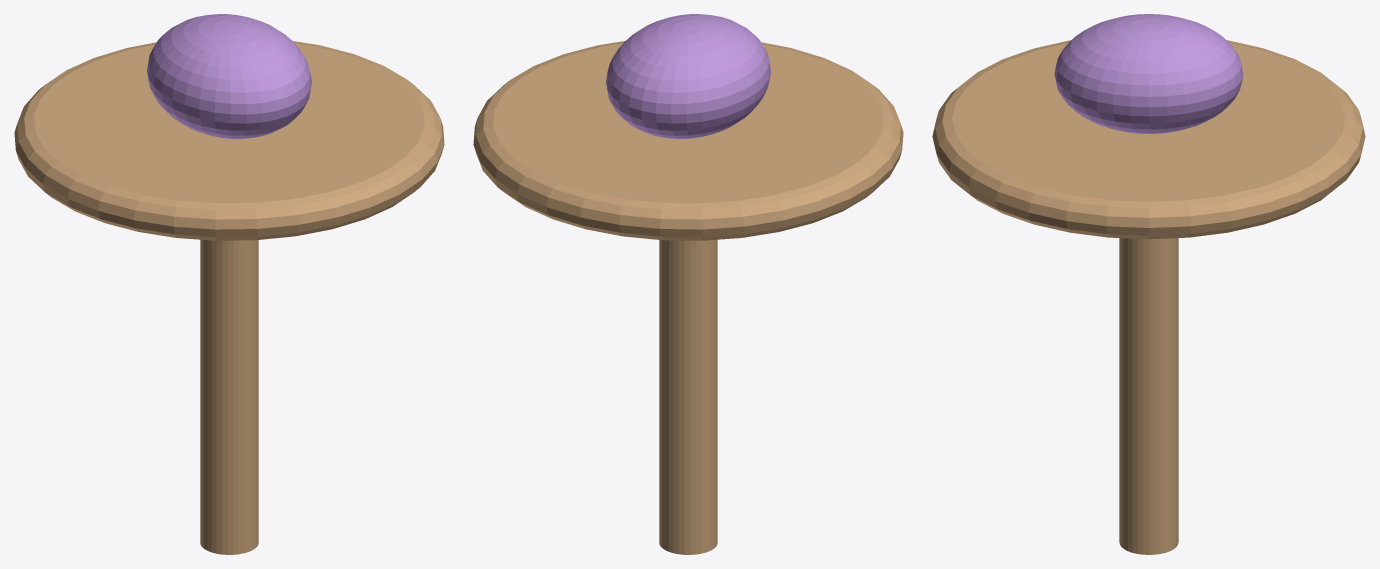
Rendered from blender-table.glb.
3 renders of one model, left to right at view 1: azimuth 30°, elevation 25°; view 2: azimuth 150°, elevation 25°; view 3: azimuth 270°, elevation 25°, orthographic.
Parts seen in each view (by area): view 1: Cylinder, Cylinder.001, Sphere; view 2: Cylinder, Cylinder.001, Sphere; view 3: Cylinder, Cylinder.001, Sphere.
Boxes of the visible parts, <box> form: Cylinder: <box>14,41,444,240</box>; Cylinder.001: <box>200,239,258,554</box>; Sphere: <box>147,14,311,138</box>; Cylinder: <box>473,41,903,240</box>; Cylinder.001: <box>659,239,717,554</box>; Sphere: <box>606,14,770,138</box>; Cylinder: <box>932,40,1365,239</box>; Cylinder.001: <box>1119,238,1178,554</box>; Sphere: <box>1054,14,1243,133</box>.
Size of the model in its own units: 0.44 by 0.581 by 0.44.
